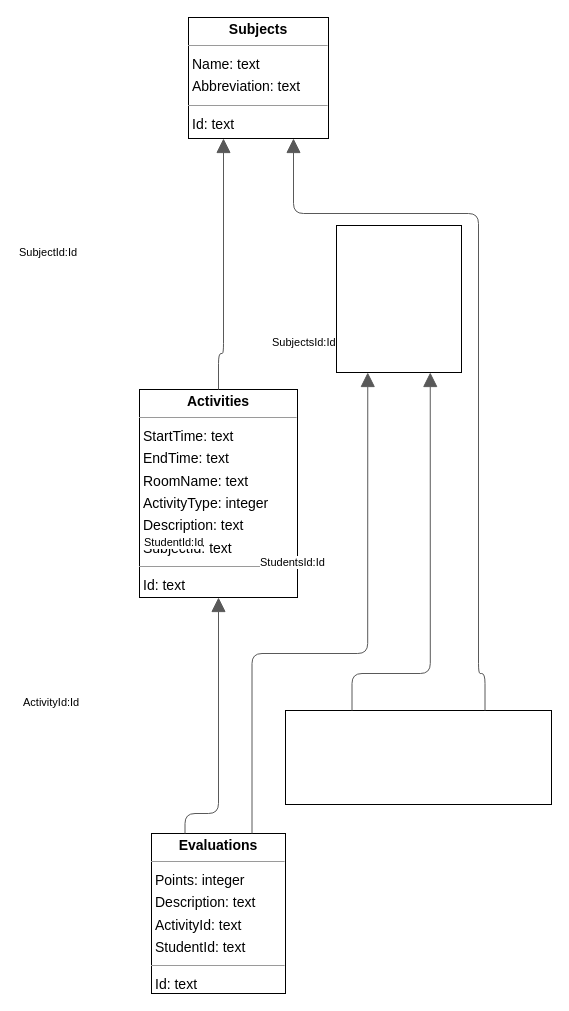
This 569x1011 diagram has some shape labels left out. The centre of each missing label's shape, as x and y in pixels:
StudentEntitySubjectEntity StudentsId: text SubjectsId: text: (418,757)
Students FirstName: text LastName: text PhotoUrl: text Id: text: (399,298)
